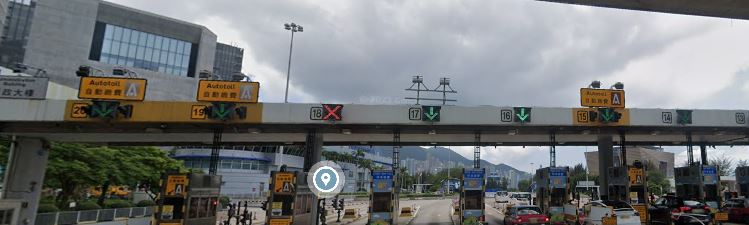Autotoll: (196, 77, 263, 107), (76, 75, 147, 102), (578, 87, 627, 109), (272, 172, 293, 196), (168, 172, 187, 196)
